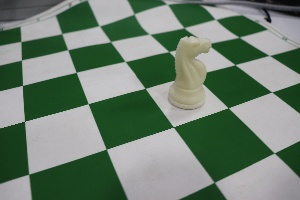white_horse: (163, 26, 216, 119)
